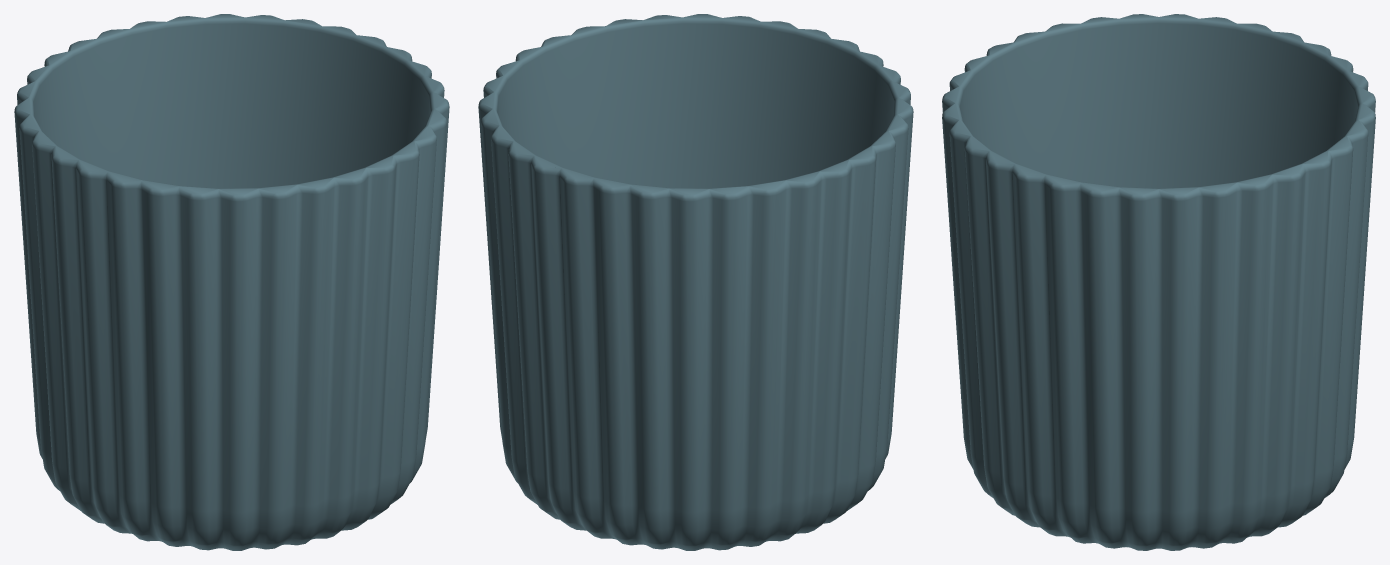
The model's file is VP_Waterglass.FBX.
The picture shows the model from 3 angles, left to right: view 1: azimuth 30°, elevation 25°; view 2: azimuth 150°, elevation 25°; view 3: azimuth 270°, elevation 25°; orthographic projection.
Parts seen in each view (by area): view 1: VP_Waterglass; view 2: VP_Waterglass; view 3: VP_Waterglass.
Boxes of the visible parts, x1,y1,x2,y2 form: VP_Waterglass: (14,14,449,550); VP_Waterglass: (478,14,913,550); VP_Waterglass: (942,14,1375,550).
Size of what is drawn, in the model's own units: 9.53 by 9.53 by 9.23.
